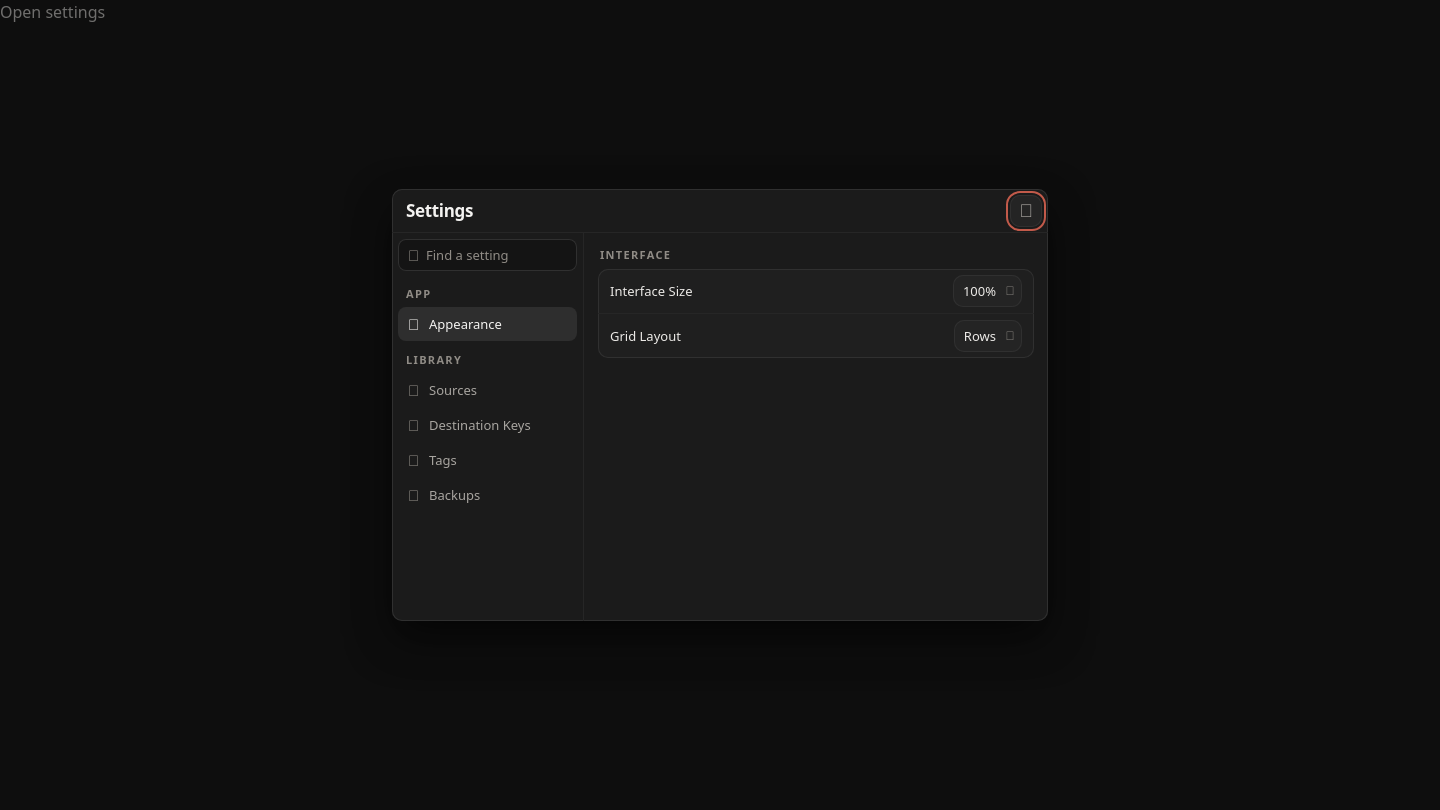
the filter narrows Settings to the rows that match, and says when none do
The image size is (1440, 810).
In the search field named "Find a setting": (488, 255) [398,239,577,271], type "layout"
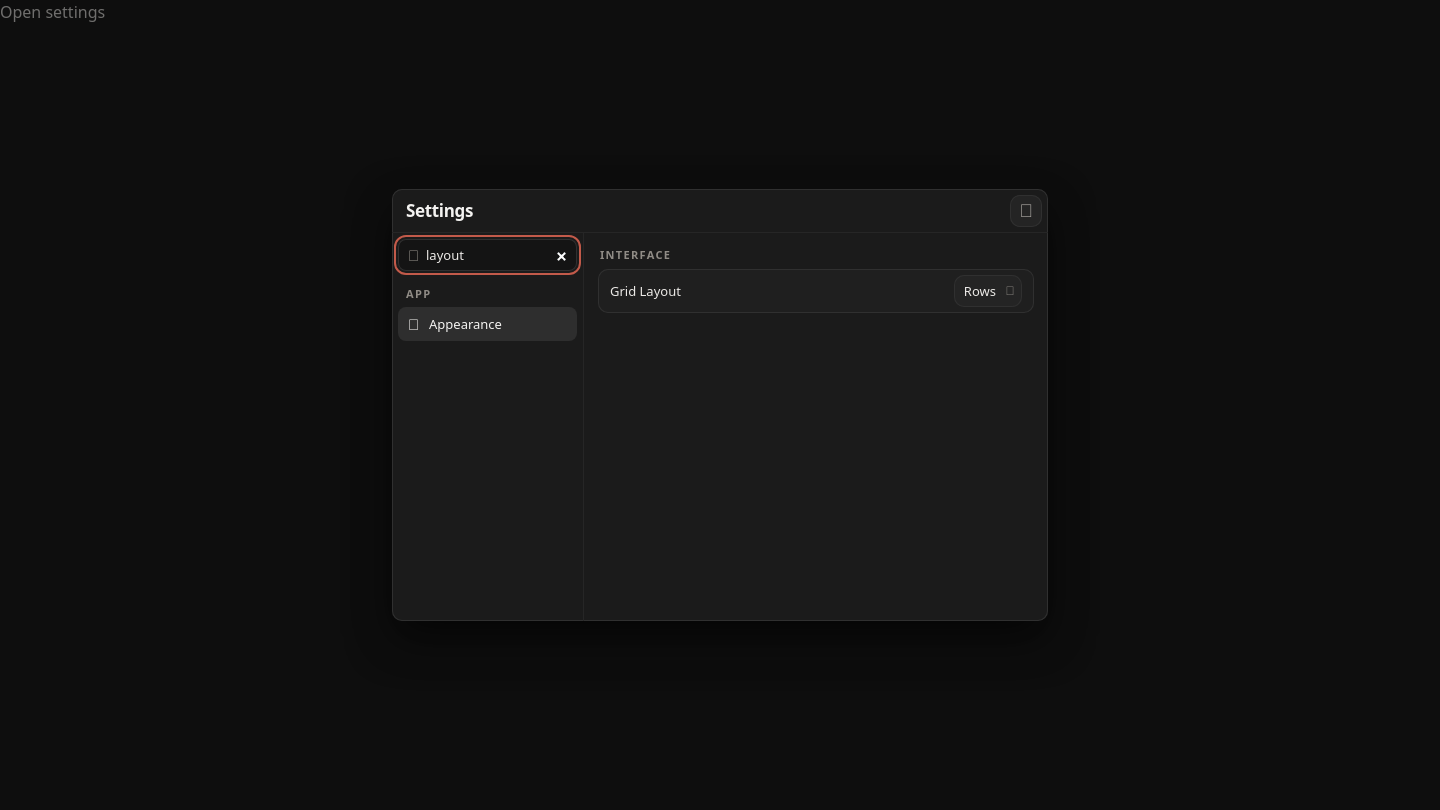
Expected: the text "Grid Layout" is shown, [610,282,681,300]
Replace the text in the search field named "Find a setting" with "nothing like it": (488, 255) [398,239,577,271]
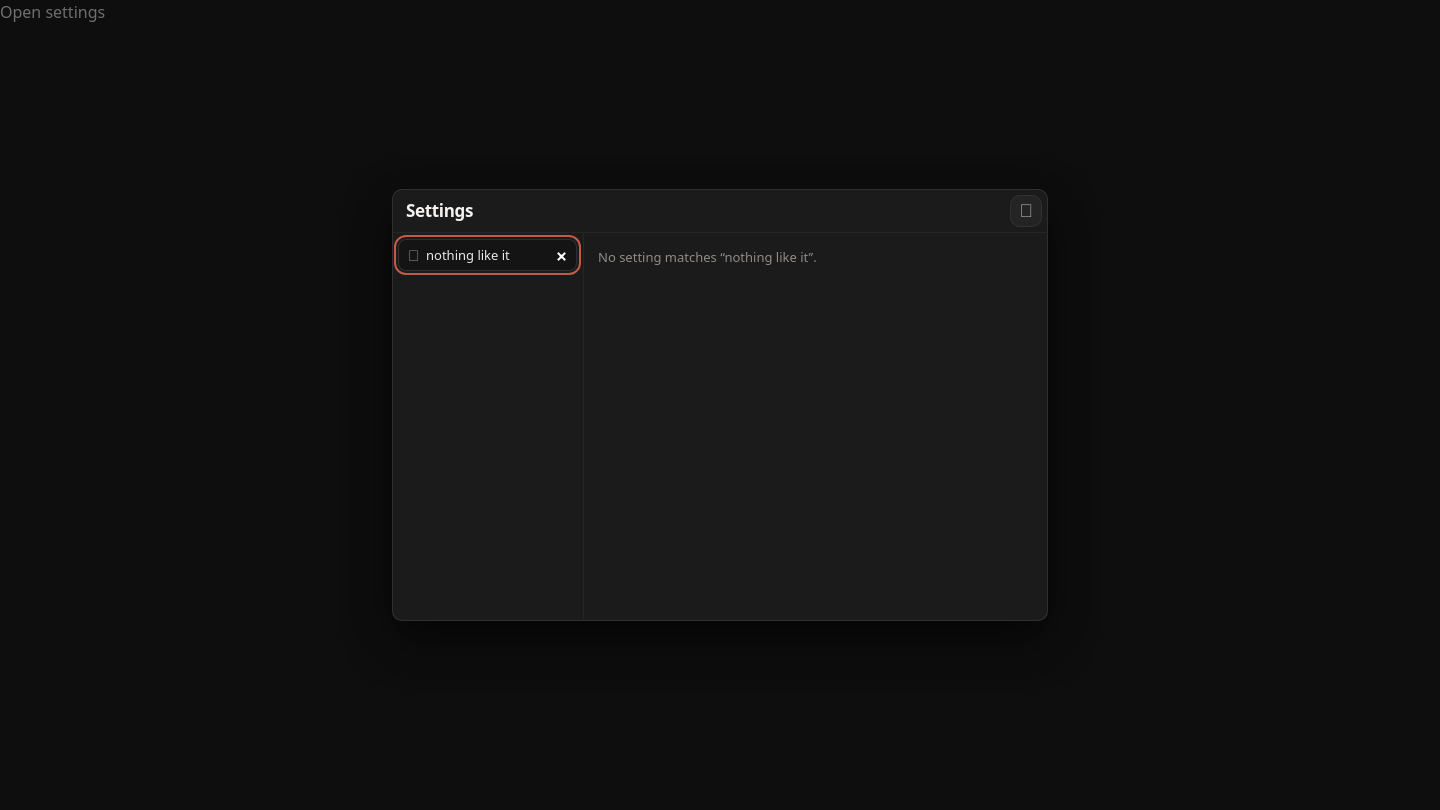
Expected: the text "No setting matches “nothing like it”." is shown, [598,248,817,266]
